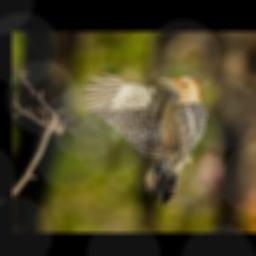Woodpecker: (83, 74, 208, 204)
